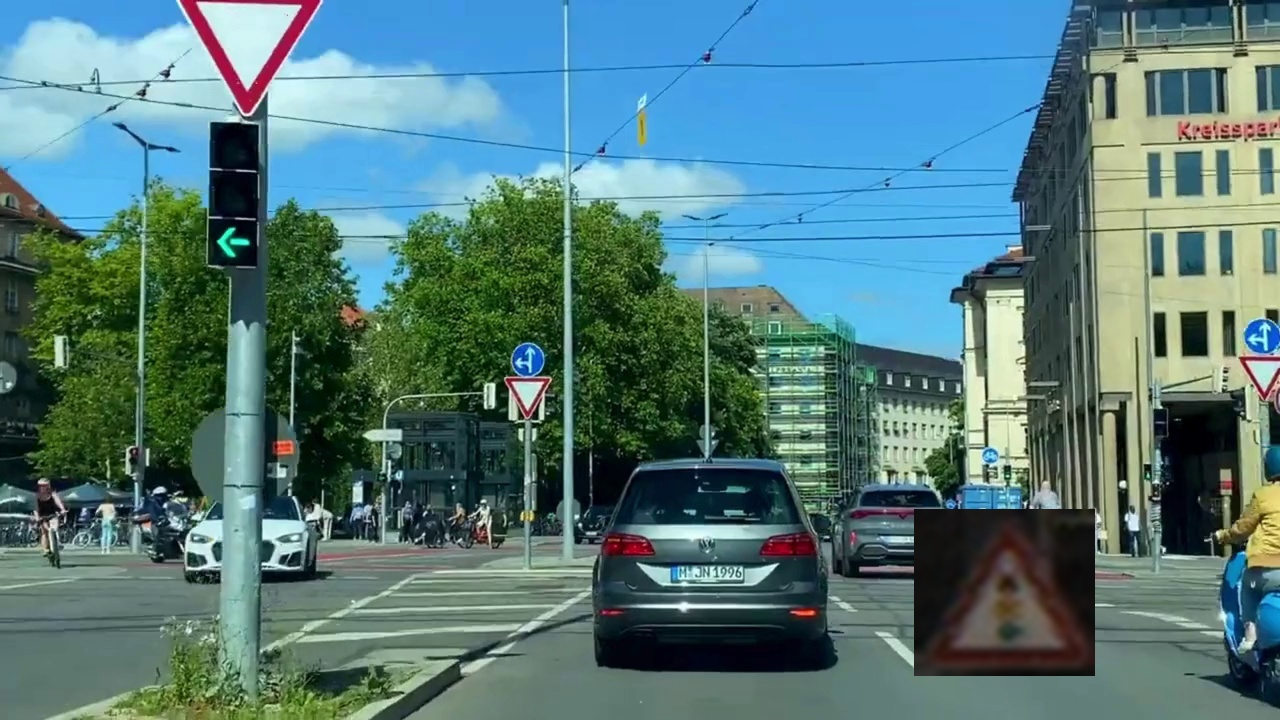Signals: (914, 509, 1095, 676)
